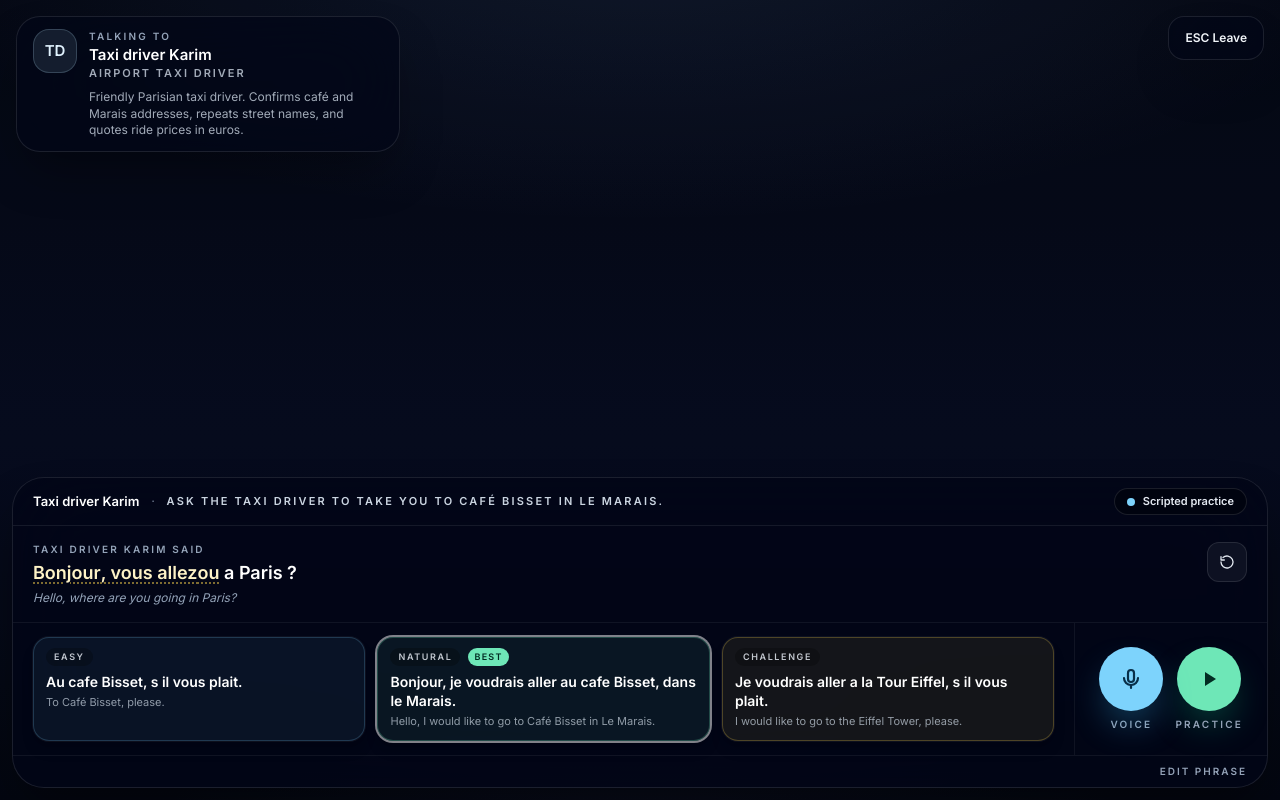
Test case: TransitConversationPanel › shows the café travel action when the user clicks any text option
The width and height of the screenshot is (1280, 800).
Step 1. Click the button that starts with "easy" → (199, 689), box [33,637,366,741]
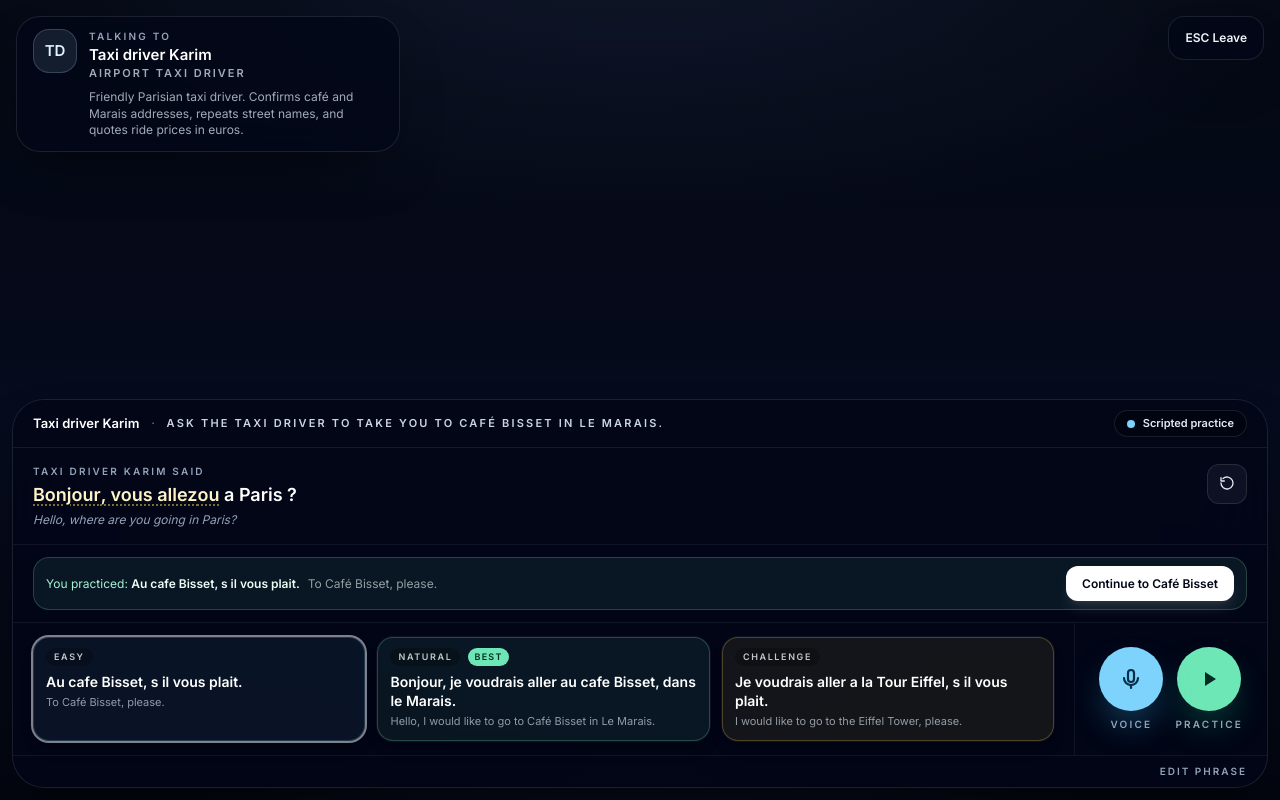
Result: the button "Continue to Café Bisset" is shown at [1066,566,1234,601]
